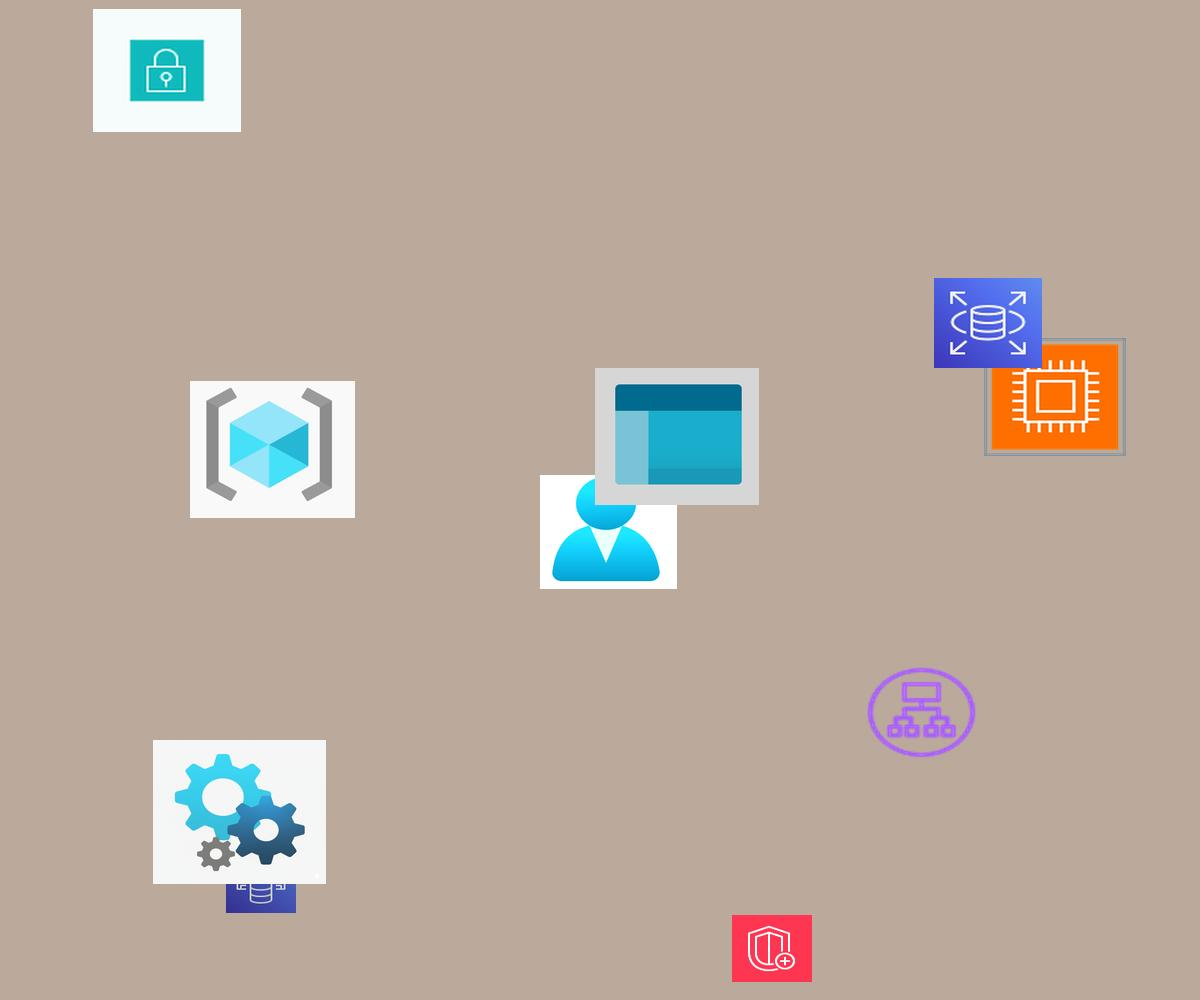AWS-Category_Compute: (984, 338, 1126, 456)
AWS-ElastiCache: (226, 855, 296, 913)
AWS-Private-subnet: (93, 9, 241, 132)
AWS-RDS: (934, 278, 1042, 368)
AWS-Res_Elastic-Load-Balancing_Application-Load-Balancer: (863, 664, 980, 761)
AWS-Shield: (732, 915, 812, 982)
Azure_api: (153, 740, 326, 884)
Azure_management-portal: (595, 368, 759, 505)
Azure_resource_group: (190, 381, 355, 518)
Azure_users: (540, 475, 677, 589)
